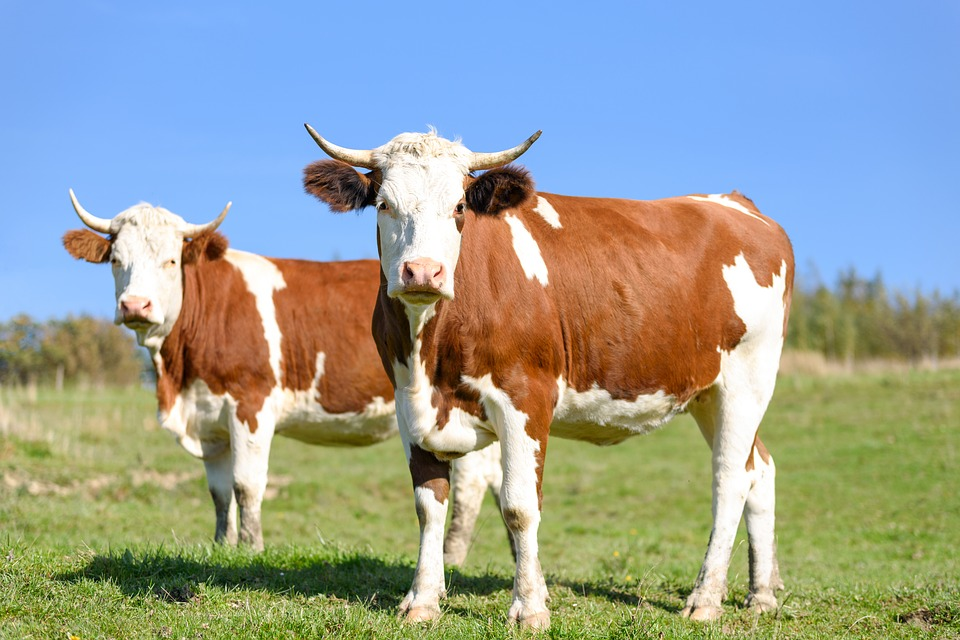cow: (295, 123, 801, 622), (64, 184, 423, 565)
